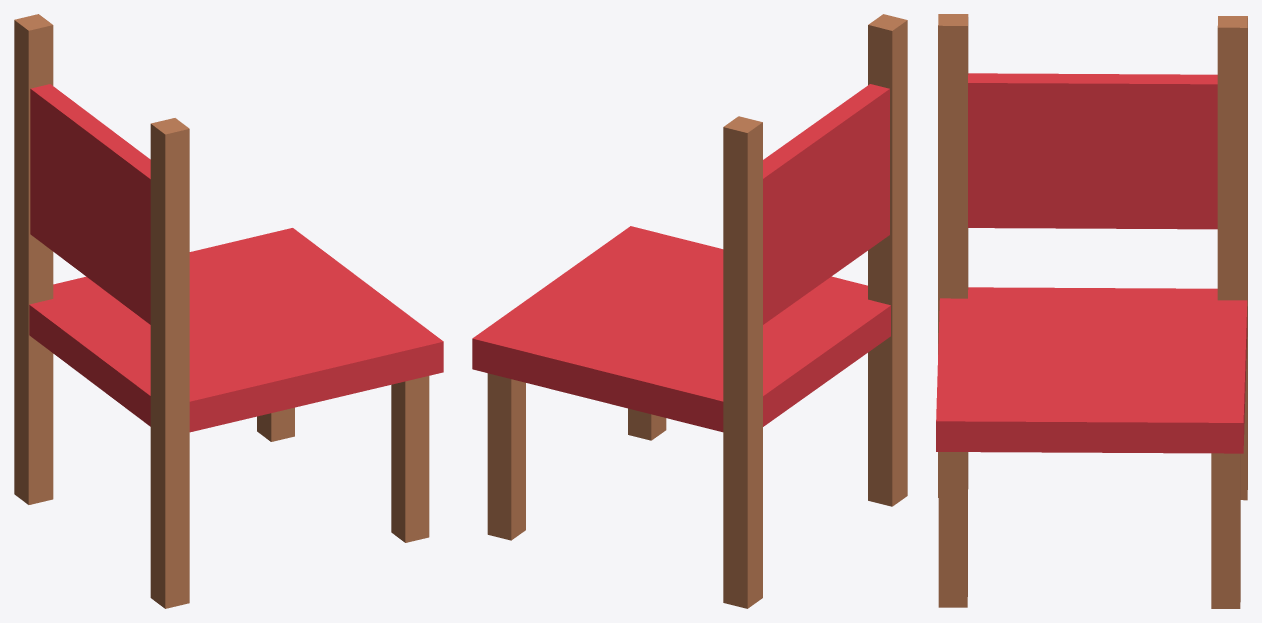
The model's file is chair.fbx.
3 views of the same model, side by side, from view 1: azimuth 30°, elevation 25°; view 2: azimuth 150°, elevation 25°; view 3: azimuth 270°, elevation 25° (orthographic).
Parts seen in each view (by area): view 1: Cube.048, Cube.049, Cube.044, Cube.045, Cube.047, Cube.046; view 2: Cube.048, Cube.049, Cube.045, Cube.044, Cube.046, Cube.047; view 3: Cube.048, Cube.049, Cube.045, Cube.044, Cube.046, Cube.047.
Boxes of the visible parts, bbox=[...] form: Cube.048: bbox=[29, 228, 443, 432]; Cube.049: bbox=[30, 84, 150, 324]; Cube.044: bbox=[150, 118, 189, 608]; Cube.045: bbox=[14, 14, 53, 504]; Cube.047: bbox=[391, 376, 429, 542]; Cube.046: bbox=[257, 407, 294, 441]; Cube.048: bbox=[472, 226, 890, 432]; Cube.049: bbox=[763, 84, 889, 324]; Cube.045: bbox=[723, 116, 762, 608]; Cube.044: bbox=[868, 14, 907, 506]; Cube.046: bbox=[487, 373, 525, 540]; Cube.047: bbox=[628, 408, 666, 440]; Cube.048: bbox=[936, 287, 1247, 453]; Cube.049: bbox=[968, 73, 1217, 229]; Cube.045: bbox=[1217, 16, 1247, 500]; Cube.044: bbox=[938, 14, 968, 497]; Cube.046: bbox=[1211, 453, 1240, 608]; Cube.047: bbox=[938, 452, 967, 607].
Size of the model in its own units: 42.04 by 67.88 by 40.61.
